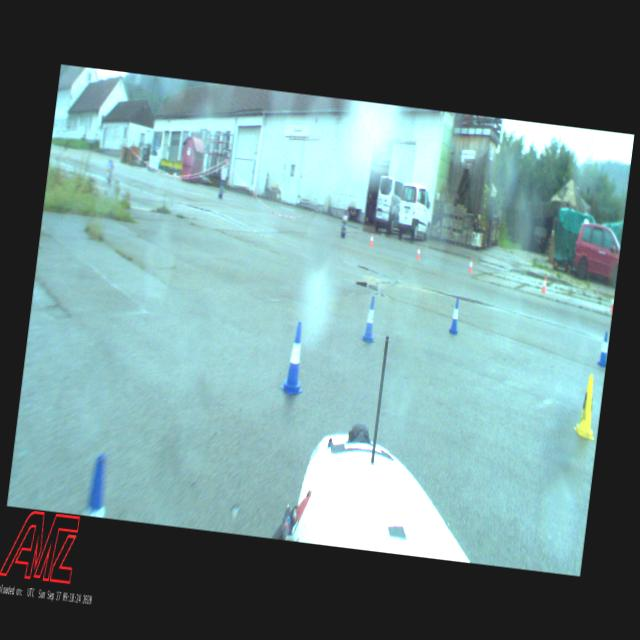blue_cone: (279, 320, 310, 397), (360, 294, 380, 344), (448, 297, 462, 334), (596, 332, 609, 366)
orange_cone: (609, 292, 614, 312), (541, 276, 547, 292), (368, 232, 374, 246), (468, 258, 473, 274), (416, 246, 420, 259)
yellow_cone: (572, 373, 601, 439)
